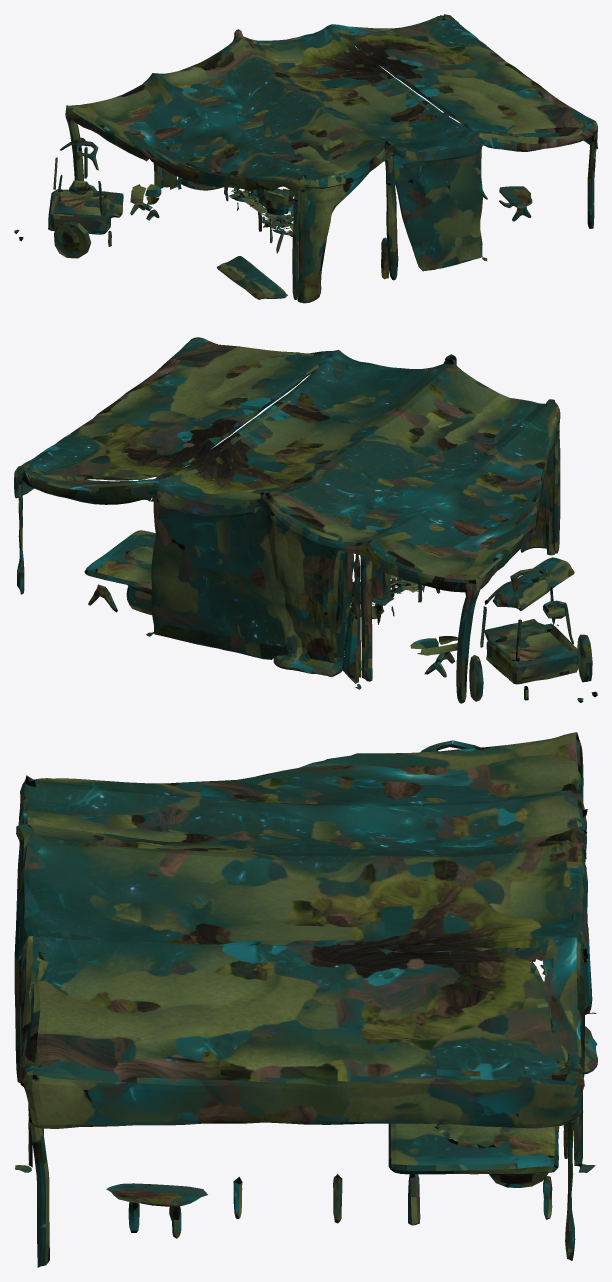
File: tent updated 2.obj
The picture shows the model from 3 angles, top to bottom: view 1: azimuth 30°, elevation 25°; view 2: azimuth 150°, elevation 25°; view 3: azimuth 270°, elevation 25°; orthographic projection. The views are drawn at different scales.
Parts seen in each view (by area): view 1: tripo_node_947d91e5-8c64-4cf1-aa4a-7e1f5c9b77ab; view 2: tripo_node_947d91e5-8c64-4cf1-aa4a-7e1f5c9b77ab; view 3: tripo_node_947d91e5-8c64-4cf1-aa4a-7e1f5c9b77ab.
Part boxes in pixels (x1,y1,x2,y2): tripo_node_947d91e5-8c64-4cf1-aa4a-7e1f5c9b77ab: (14,14,597,303); tripo_node_947d91e5-8c64-4cf1-aa4a-7e1f5c9b77ab: (14,337,597,703); tripo_node_947d91e5-8c64-4cf1-aa4a-7e1f5c9b77ab: (14,732,597,1267).
Size of the model in its own units: 0.9959 by 0.3059 by 0.6021.
